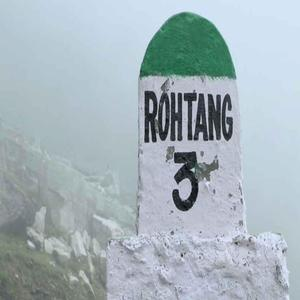kmstone: (131, 7, 249, 272)
